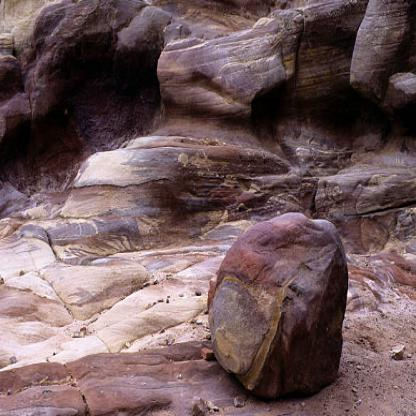Sedimentary_Sandstone: (203, 207, 352, 409), (10, 0, 156, 127), (156, 22, 296, 116), (344, 0, 415, 109)
